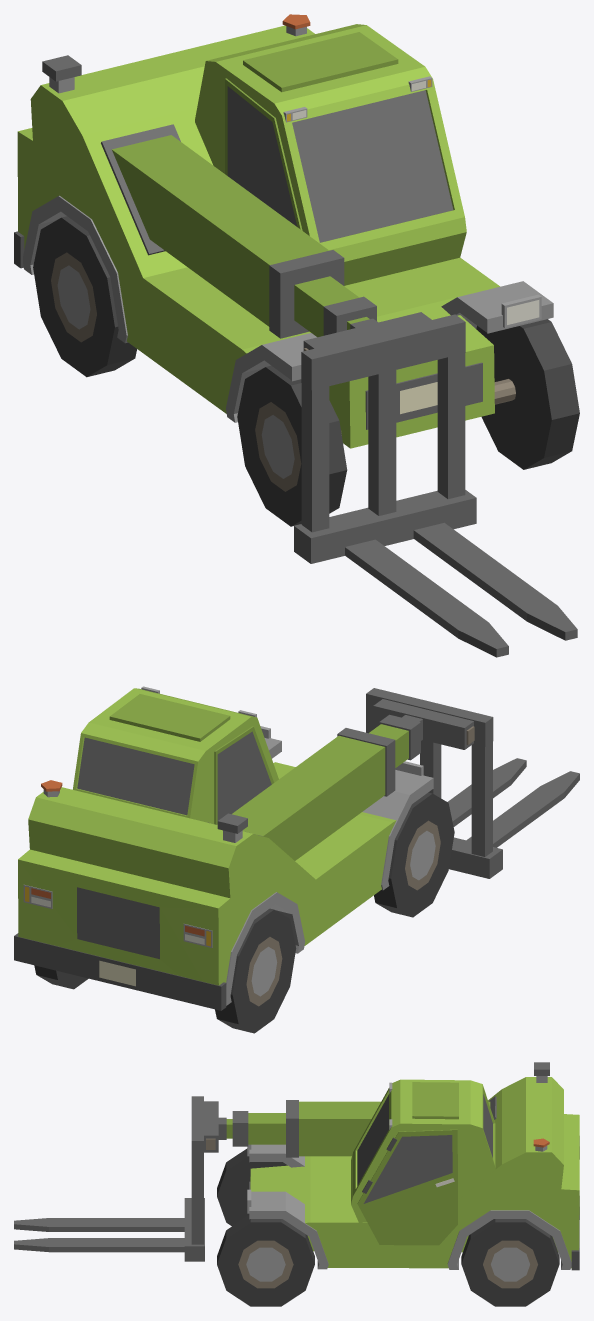
The model's file is kar5_2.fbx.
3 views of the same model, one above another, from view 1: azimuth 30°, elevation 25°; view 2: azimuth 150°, elevation 25°; view 3: azimuth 270°, elevation 25° (orthographic). The views are drawn at different scales.
Visible parts, largest first — view 1: Cylinder_5, Cube_26, Cube_17, Cylinder, Cylinder_4, Cylinder_3, Cube_23; view 2: Cylinder_5, Cube_26, Cube_17, Cylinder_3, Cylinder_4, Cube_23, Cylinder_2; view 3: Cylinder_5, Cube_26, Cylinder, Cylinder_2, Cube_17, Cylinder_3, Cube_23, Cube_21.
Part boxes in pixels (x1,y1,x2,y2): Cylinder_5: (14, 14, 553, 448); Cube_26: (294, 312, 577, 657); Cube_17: (111, 135, 344, 338); Cylinder: (476, 319, 579, 469); Cylinder_4: (33, 216, 136, 377); Cylinder_3: (237, 365, 347, 526); Cube_23: (294, 276, 376, 337); Cylinder_5: (14, 686, 433, 1010); Cube_26: (366, 688, 579, 878); Cube_17: (217, 728, 395, 860); Cylinder_3: (374, 792, 454, 917); Cylinder_4: (215, 908, 296, 1033); Cube_23: (369, 714, 420, 767); Cylinder_2: (34, 965, 88, 989); Cylinder_5: (247, 1062, 579, 1270); Cube_26: (14, 1096, 218, 1261); Cylinder: (217, 1215, 314, 1306); Cylinder_2: (461, 1219, 559, 1306); Cube_17: (286, 1100, 490, 1157); Cylinder_3: (217, 1148, 287, 1225); Cube_23: (232, 1111, 285, 1146); Cube_21: (206, 1117, 232, 1149).
Bounding box in the file's own units: 199 × 196 × 542.
